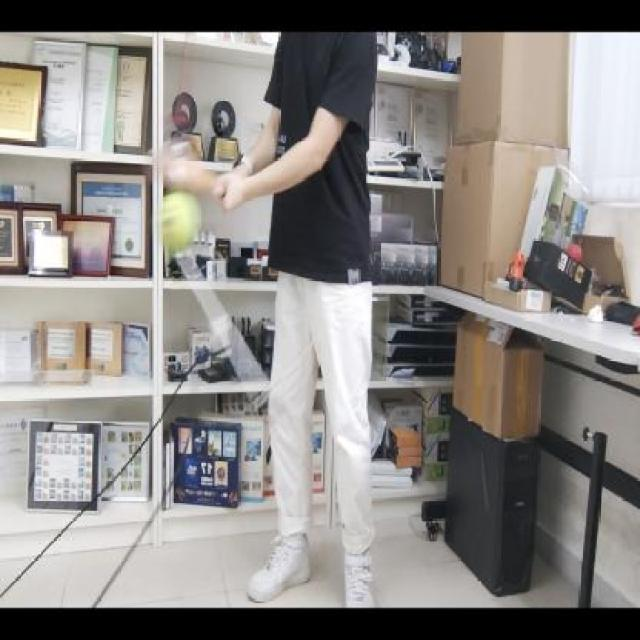baseball: (152, 188, 202, 254)
